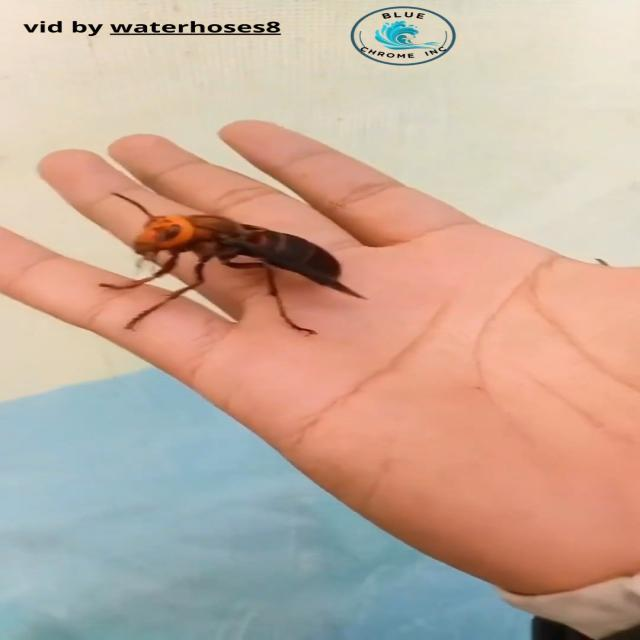Hornets: (96, 191, 372, 338)
